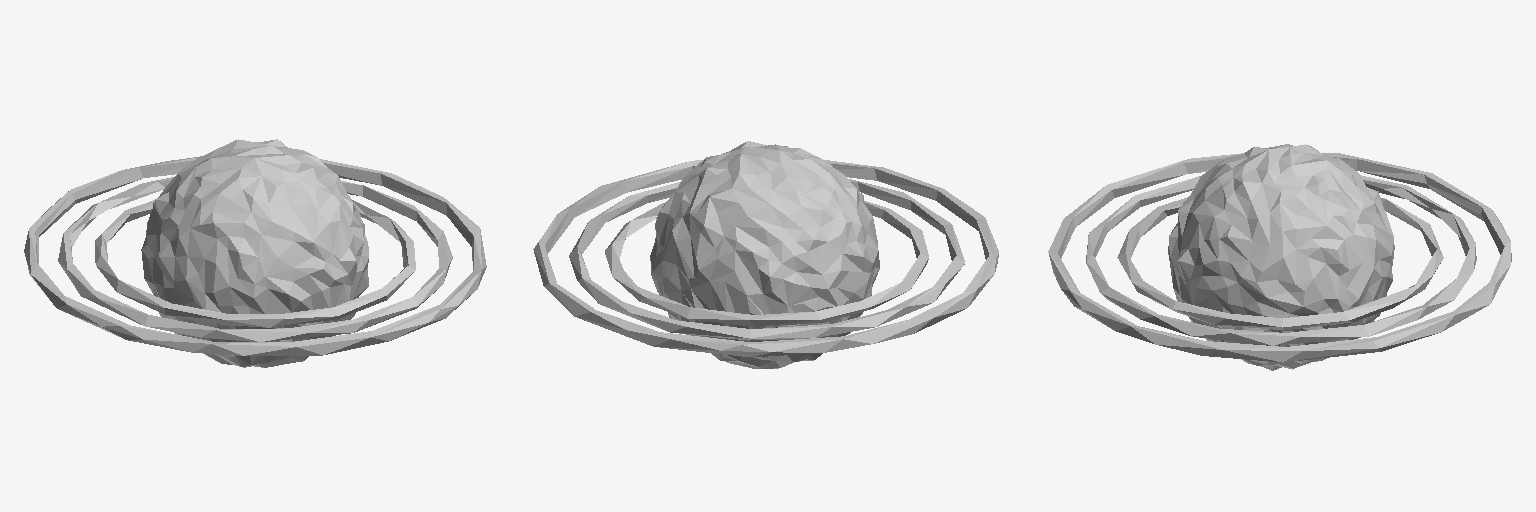
The model's file is uranus.obj.
The picture shows the model from 3 angles: view 1: azimuth 30°, elevation 25°; view 2: azimuth 150°, elevation 25°; view 3: azimuth 270°, elevation 25°; orthographic projection.
Visible parts, largest first — view 1: Uranus; view 2: Uranus; view 3: Uranus.
Part boxes in pixels (x1,y1,x2,y2): Uranus: (24,139,486,367); Uranus: (533,141,998,368); Uranus: (1048,144,1511,370).
Size of the model in its own units: 16.28 by 8.04 by 16.36.